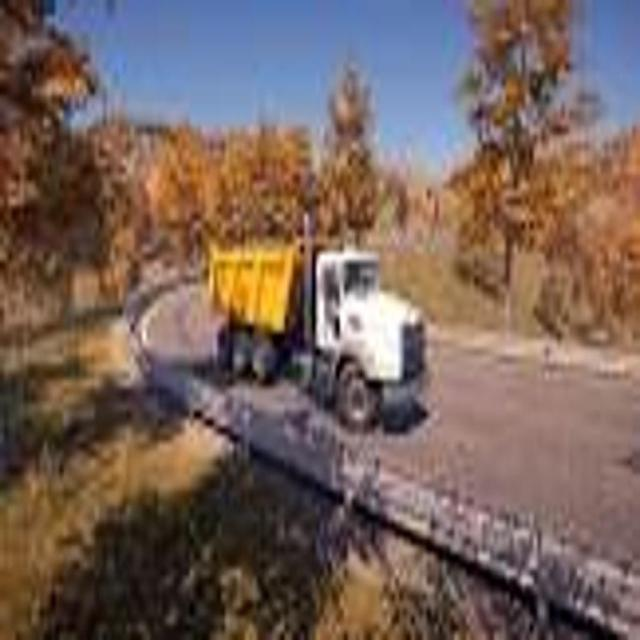dump_truck: (206, 221, 432, 441)
